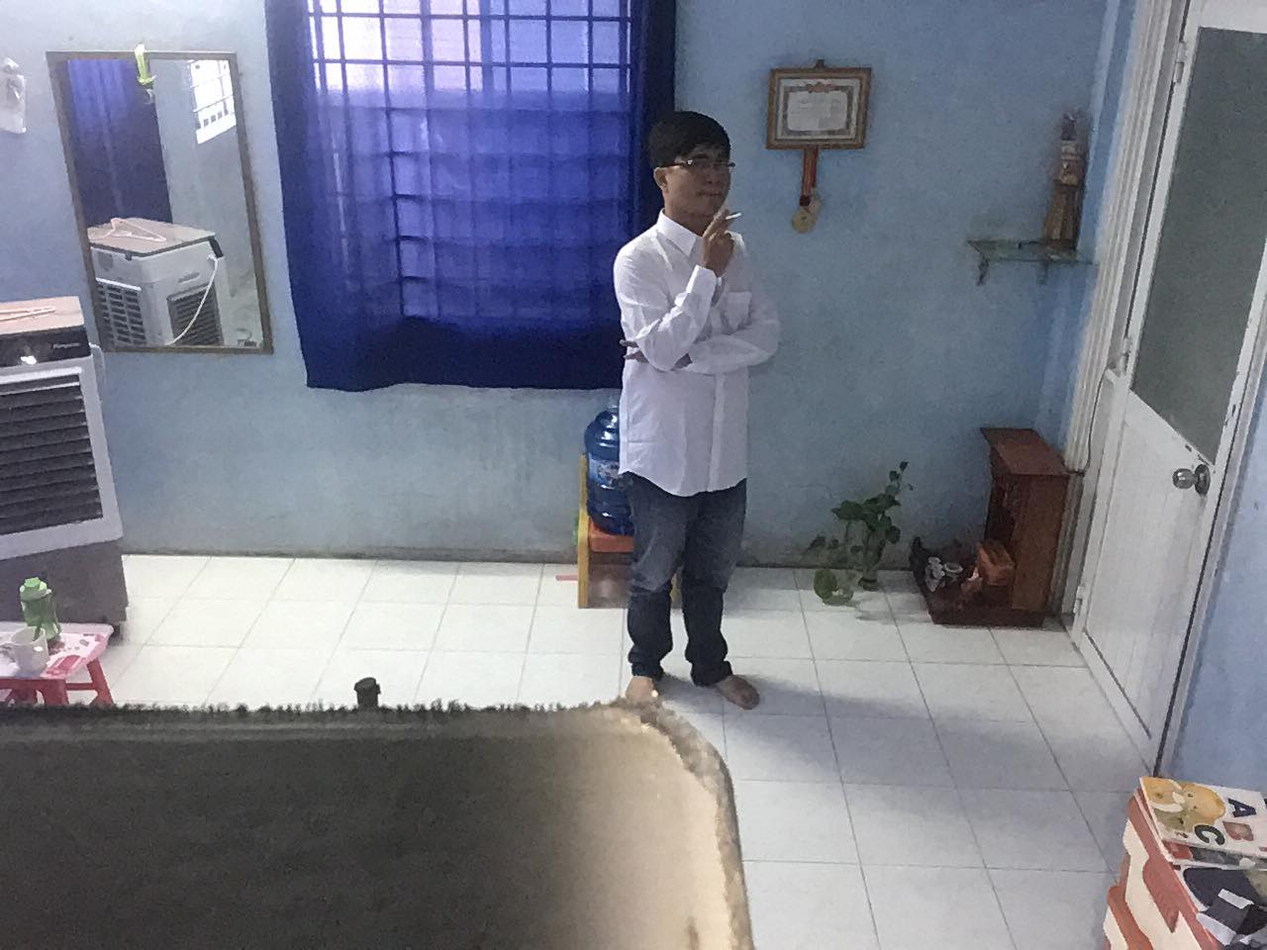cigarette: (724, 207, 748, 222)
person: (585, 86, 809, 737)
